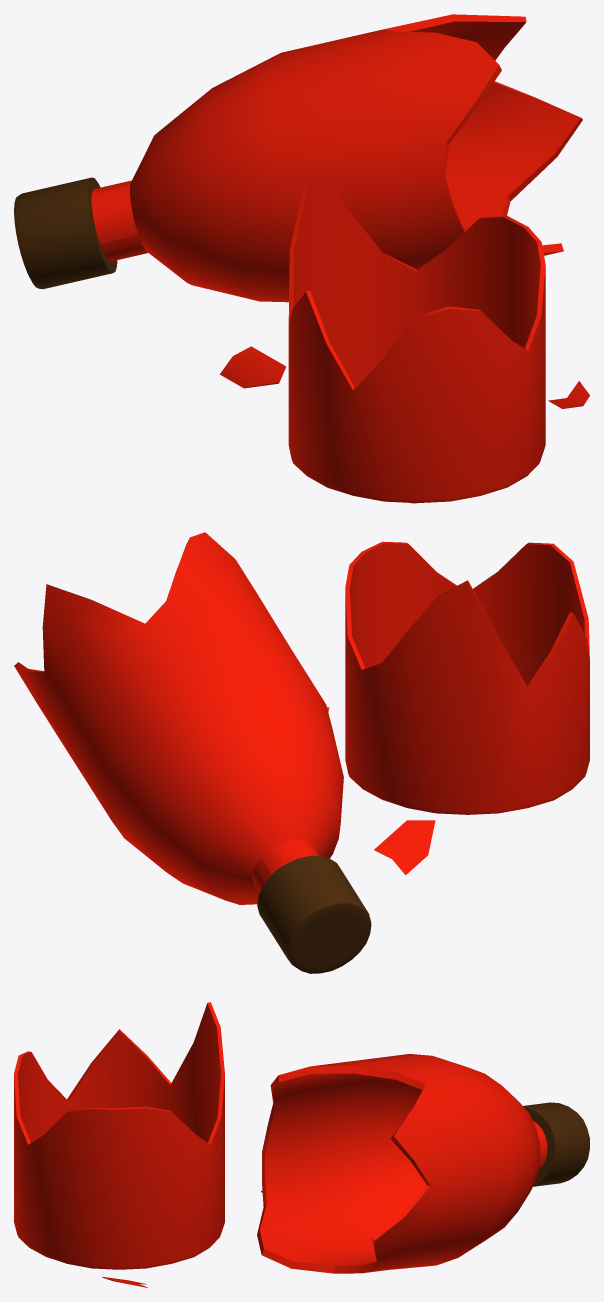
File: Botella_Rota_B.fbx
3 renders of one model, top to bottom at view 1: azimuth 30°, elevation 25°; view 2: azimuth 150°, elevation 25°; view 3: azimuth 270°, elevation 25°, orthographic. The views are drawn at different scales.
Parts seen in each view (by area): view 1: Botella_Rota_B, Fragmento1, Fragmento2; view 2: Botella_Rota_B, Fragmento1, Fragmento2; view 3: Botella_Rota_B, Fragmento1.
Boxes of the visible parts, <box> form: Botella_Rota_B: <box>14,14,582,302</box>; Fragmento1: <box>288,177,545,503</box>; Fragmento2: <box>220,346,285,388</box>; Botella_Rota_B: <box>14,532,371,973</box>; Fragmento1: <box>345,541,589,814</box>; Fragmento2: <box>374,820,435,875</box>; Botella_Rota_B: <box>257,1054,589,1273</box>; Fragmento1: <box>14,1002,224,1269</box>.
Bounding box in the file's own units: 0.458 × 0.2679 × 0.5932.
